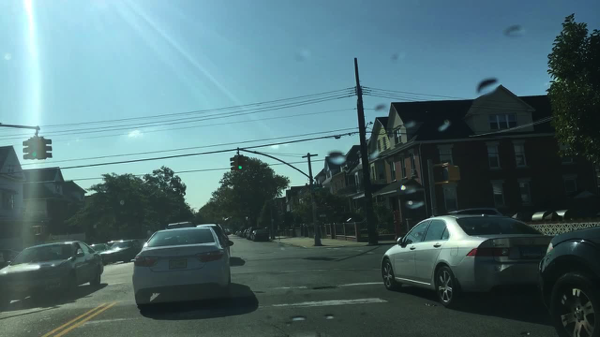car: (380, 214, 554, 308), (130, 228, 234, 307), (0, 240, 105, 308), (537, 223, 599, 336), (199, 225, 234, 258), (102, 239, 142, 265), (443, 206, 501, 220), (1, 248, 20, 270), (251, 228, 271, 242), (89, 244, 110, 255), (168, 221, 195, 228), (248, 225, 260, 239), (109, 239, 121, 249), (241, 229, 248, 238), (237, 229, 243, 236), (224, 229, 231, 234), (235, 229, 239, 235)
traffic light: (441, 165, 461, 182), (43, 136, 52, 160), (31, 138, 40, 158), (22, 138, 30, 160), (236, 155, 243, 174), (230, 155, 236, 172)
traffic sign: (312, 184, 322, 192)
